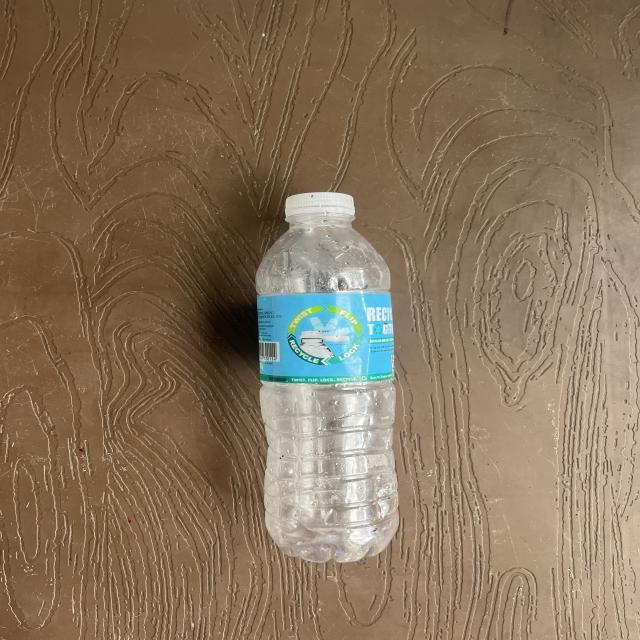REJECT: (232, 170, 470, 561)
